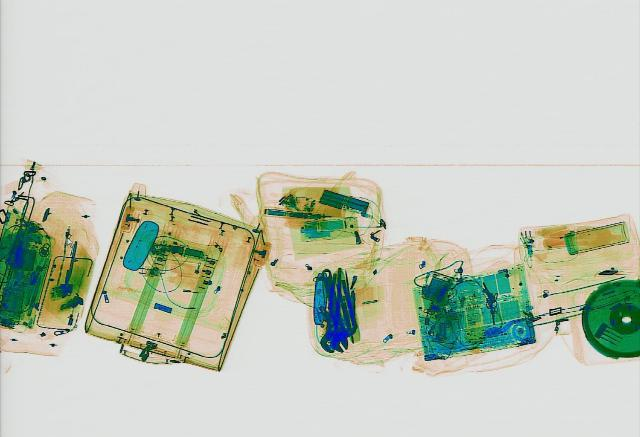Wrench: (316, 268, 349, 352)
